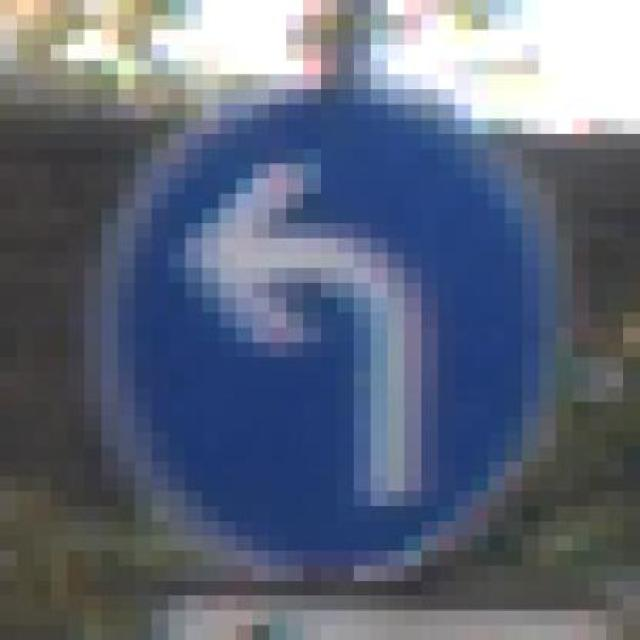Turn left ahead: (84, 74, 573, 595)
